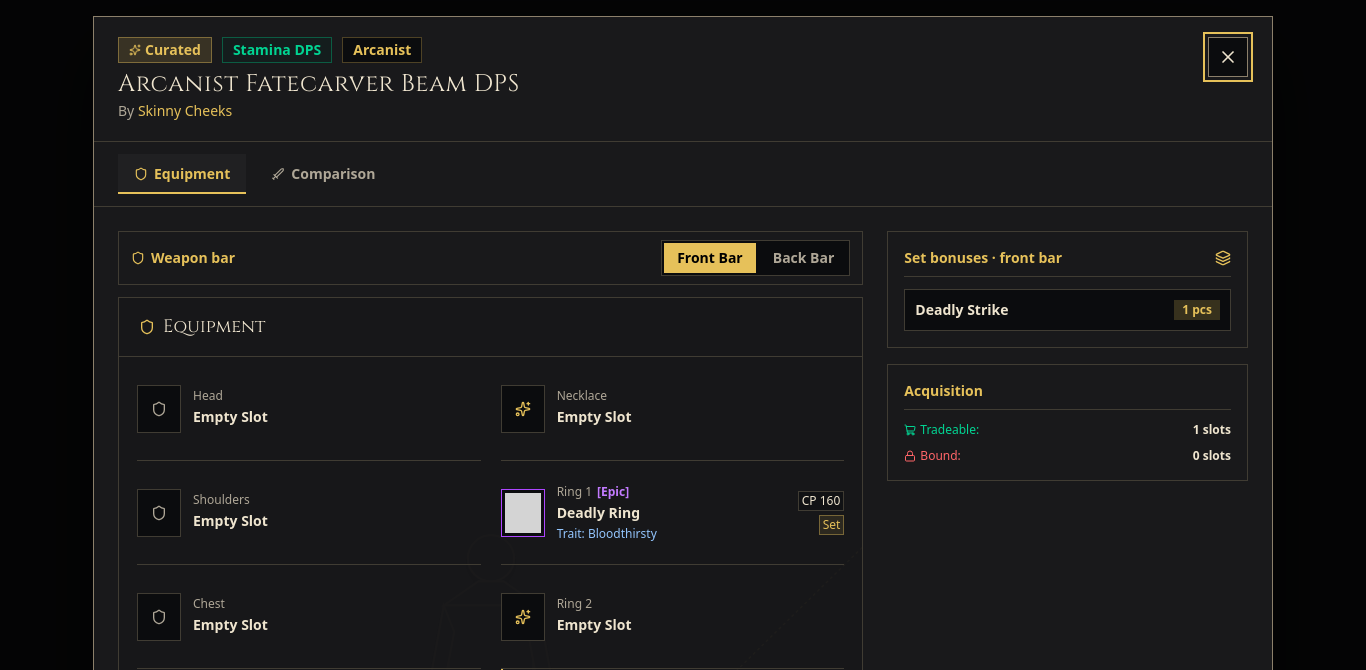
build presentation and workflow parity › preserves equipment bars and does not expose deletion for a curated build
This screenshot has width=1366, height=670.
Expected: the heading "Arcanist Fatecarver Beam DPS" is shown, top-left (118, 69), bottom-right (520, 99)
Click the button "Back Bar" at {"x": 804, "y": 258}, box top-left (760, 243), bottom-right (847, 273)
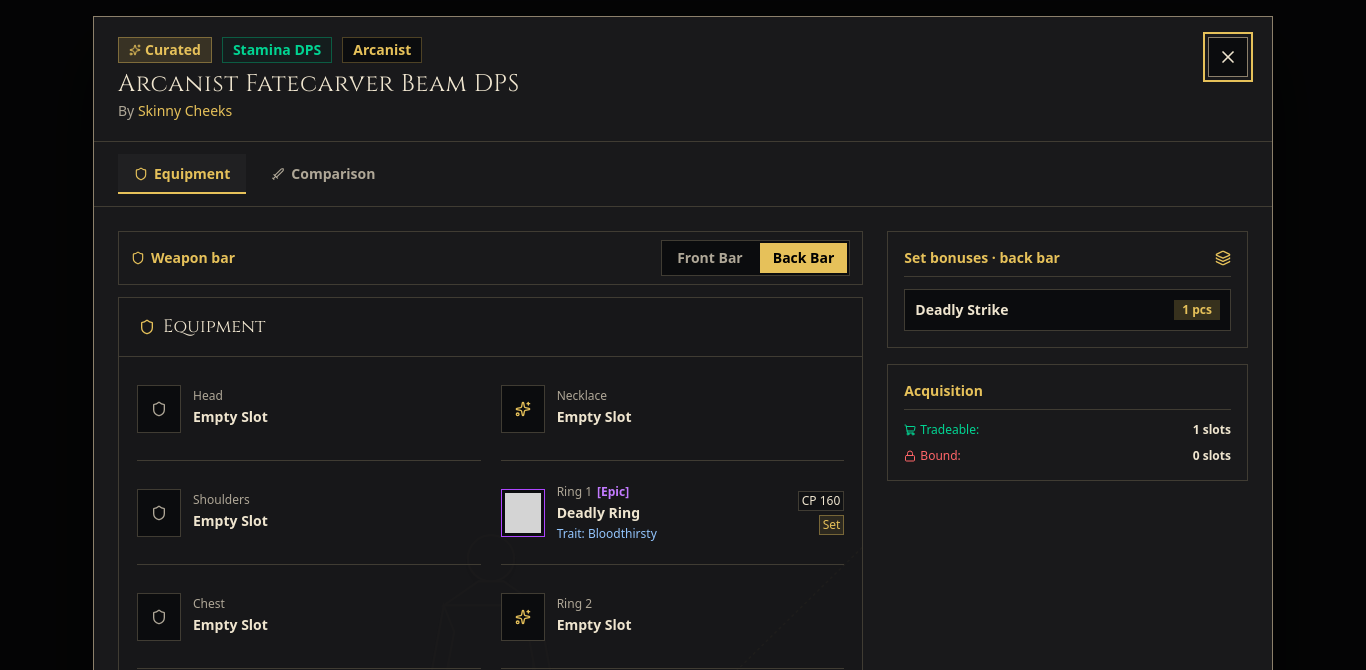
Result: the text "Set bonuses · back bar" is shown at top-left (904, 248), bottom-right (1060, 268)
